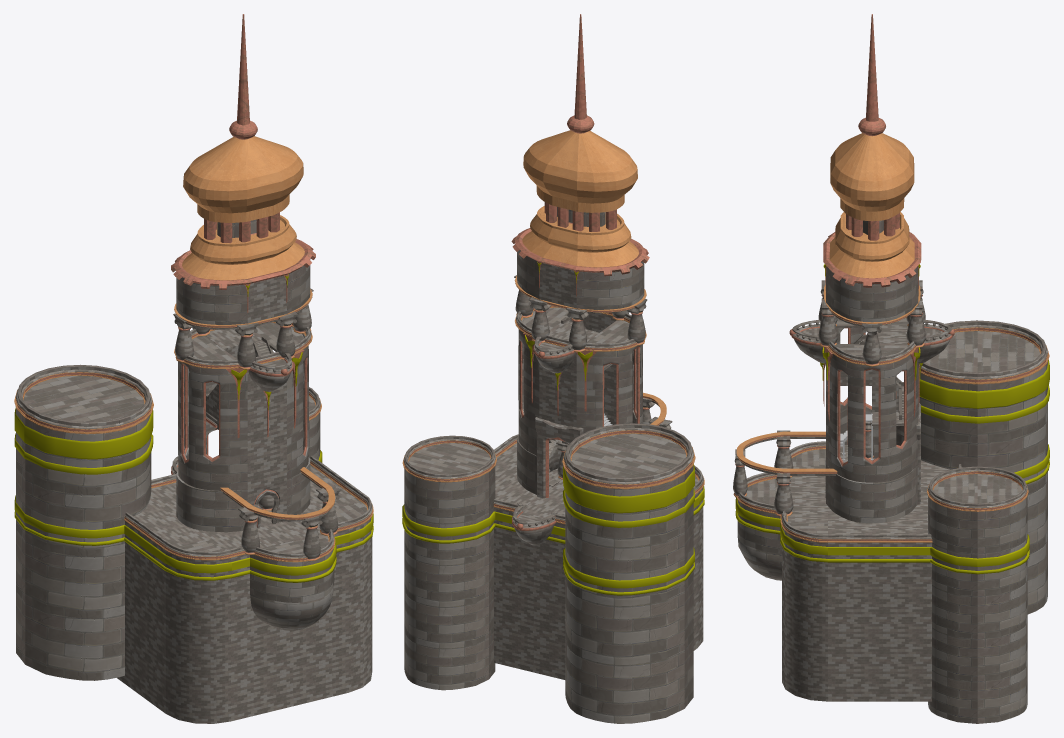
File: tower_capital_v1.fbx
3 views of the same model, side by side, from view 1: azimuth 30°, elevation 25°; view 2: azimuth 150°, elevation 25°; view 3: azimuth 270°, elevation 25° (orthographic). The views are drawn at different scales.
Visible parts, largest first — view 1: polySurface933polySurface920polySurface937, pCylinder11, polySurface933polySurface920polySurface934, polySurface933polySurface920polySurface932, polySurface1143, polySurface955, SM_Bld_Castle_Wall_Corner_L_01, SM_Bld_Castle_Wall_Corner_L_03, SM_Bld_Castle_Wall_Corner_L_04, floor_half_round10, balcony_import_work_1:group13polySurface933polySurface920pol, tower_window_mid_copper2 (+39 smaller); view 2: polySurface933polySurface920polySurface937, pCylinder11, polySurface933polySurface920polySurface934, polySurface1149, polySurface1147, polySurface1153, polySurface1152, floor_half_round9 (×2), polySurface1144, polySurface1146, floor_half_round10 (×2), tower_window_mid_copper2 (+21 smaller); view 3: pCylinder11, polySurface933polySurface920polySurface937, polySurface933polySurface920polySurface932, polySurface933polySurface920polySurface934, polySurface1106, floor_half_round10 (×2), tower_window_mid_copper3, floor_half_round9 (×2), tower_windows_top3, polySurface1149, polySurface1153, polySurface1147 (+40 smaller).
Part boxes in pixels (box(x1,y1,x2,y2)): polySurface933polySurface920polySurface937: box(16, 408, 151, 680); pCylinder11: box(171, 14, 315, 289); polySurface933polySurface920polySurface934: box(176, 259, 310, 324); polySurface933polySurface920polySurface932: box(176, 457, 310, 532); polySurface1143: box(24, 410, 153, 474); polySurface955: box(178, 423, 247, 490); SM_Bld_Castle_Wall_Corner_L_01: box(166, 591, 230, 641); SM_Bld_Castle_Wall_Corner_L_03: box(166, 632, 230, 682); SM_Bld_Castle_Wall_Corner_L_04: box(166, 673, 230, 723); floor_half_round10: box(23, 375, 134, 412); balcony_import_work_1:group13polySurface933polySurface920pol: box(250, 549, 334, 602); tower_window_mid_copper2: box(178, 382, 247, 449); polySurface933polySurface920polySurface937: box(565, 465, 693, 723); pCylinder11: box(511, 14, 649, 276); polySurface933polySurface920polySurface934: box(517, 250, 644, 309); polySurface1149: box(404, 545, 488, 606); polySurface1147: box(404, 587, 488, 648); polySurface1153: box(404, 628, 488, 690); polySurface1152: box(404, 469, 488, 523); floor_half_round9 (×2): box(415, 433, 686, 468); polySurface1144: box(563, 466, 685, 527); polySurface1146: box(404, 503, 488, 565); floor_half_round10 (×2): box(409, 447, 669, 477); tower_window_mid_copper2: box(576, 364, 642, 428); pCylinder11: box(823, 14, 921, 287); polySurface933polySurface920polySurface937: box(919, 362, 1047, 614); polySurface933polySurface920polySurface932: box(826, 428, 917, 523); polySurface933polySurface920polySurface934: box(826, 266, 918, 322); polySurface1106: box(826, 424, 917, 482); floor_half_round10 (×2): box(977, 331, 1040, 503); tower_window_mid_copper3: box(826, 384, 918, 442); floor_half_round9 (×2): box(925, 331, 977, 503); tower_windows_top3: box(826, 351, 918, 402); polySurface1149: box(977, 577, 1027, 638); polySurface1153: box(977, 662, 1027, 723); polySurface1147: box(977, 620, 1027, 681).
Bounding box in the file's own units: 37.13 × 81.57 × 35.98.
